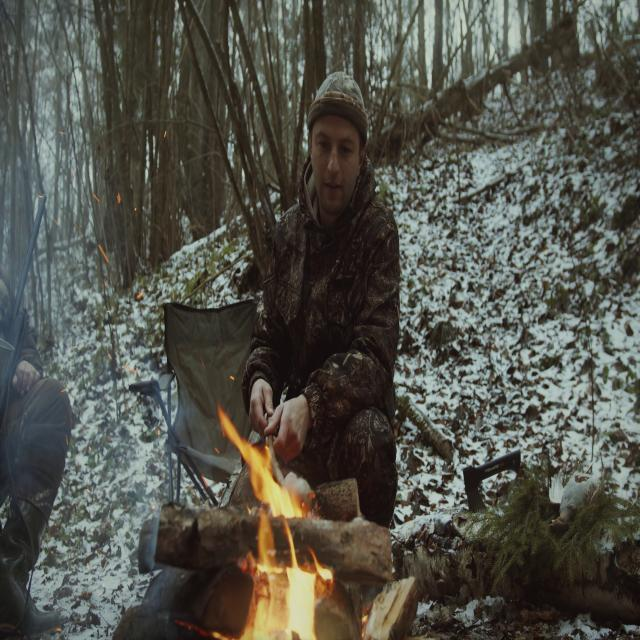Fire: (232, 418, 328, 640)
